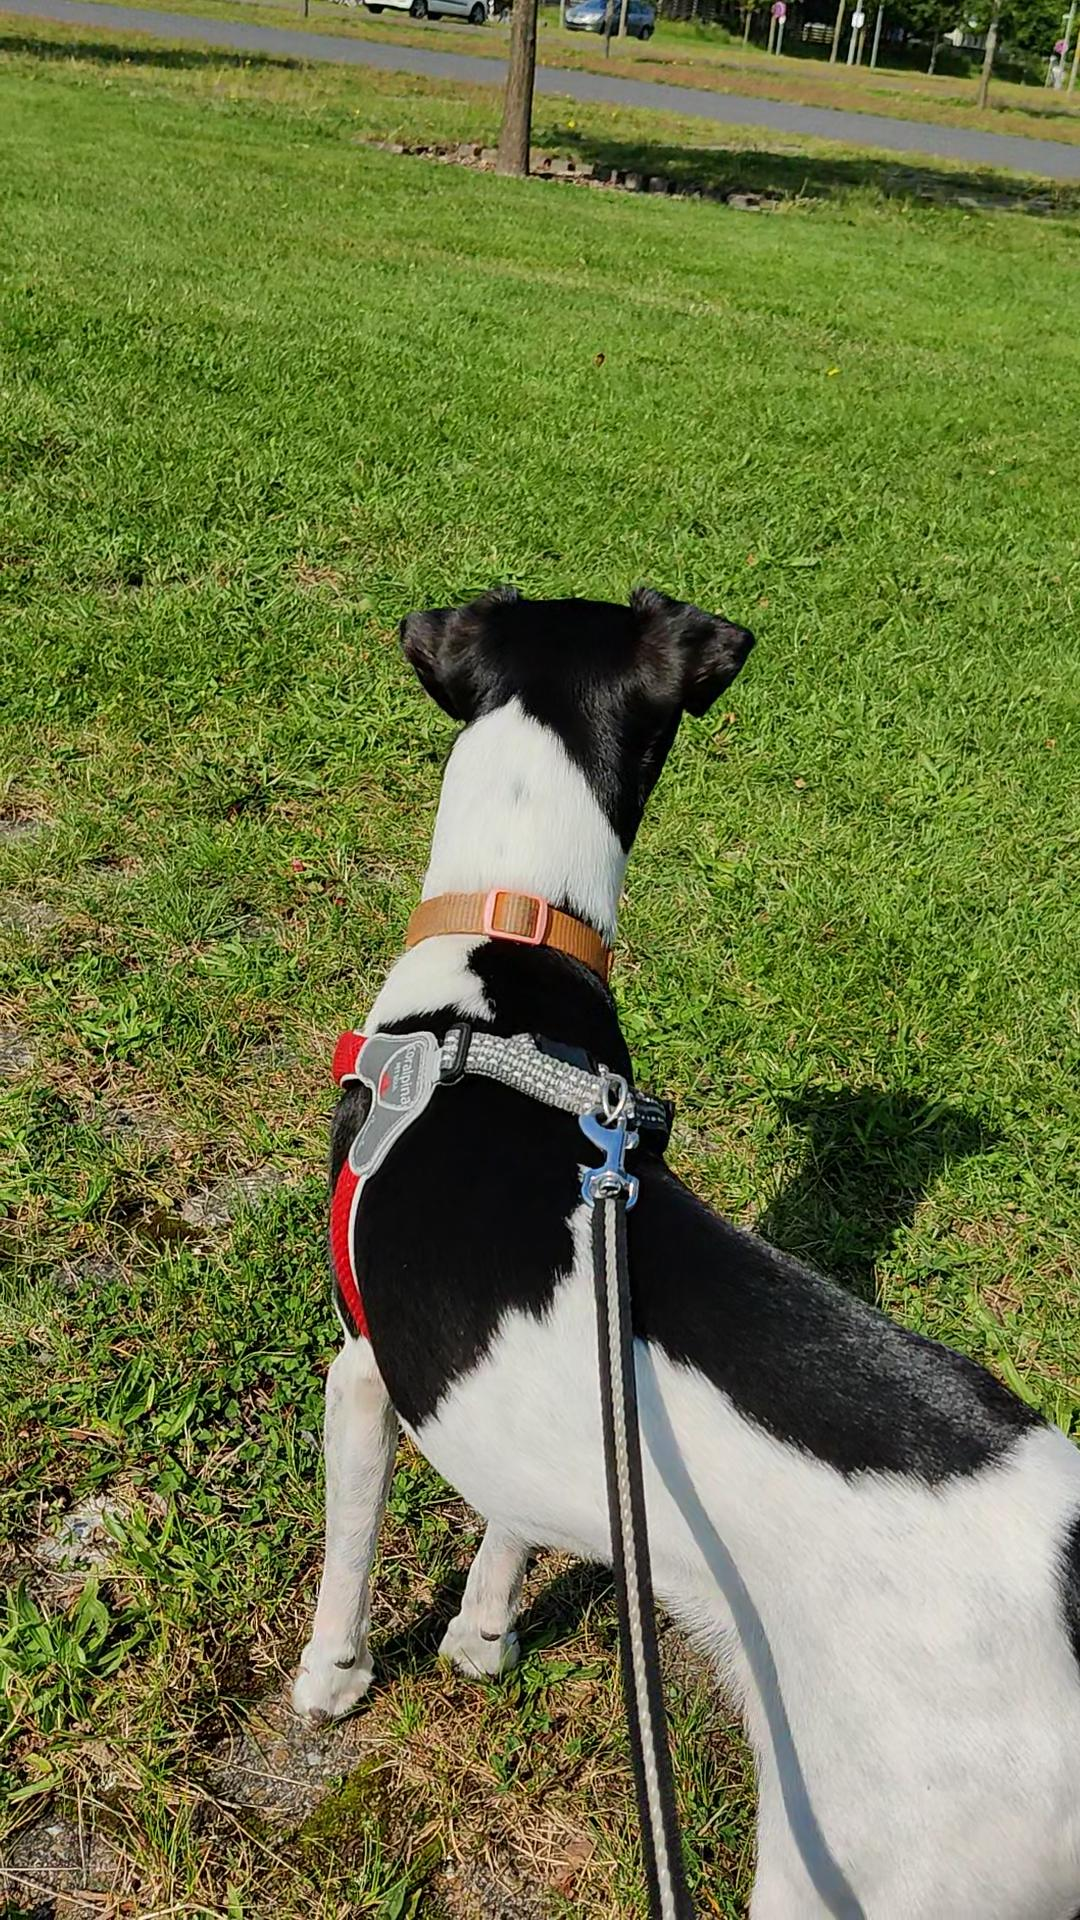Dog: (281, 574, 1079, 1919)
